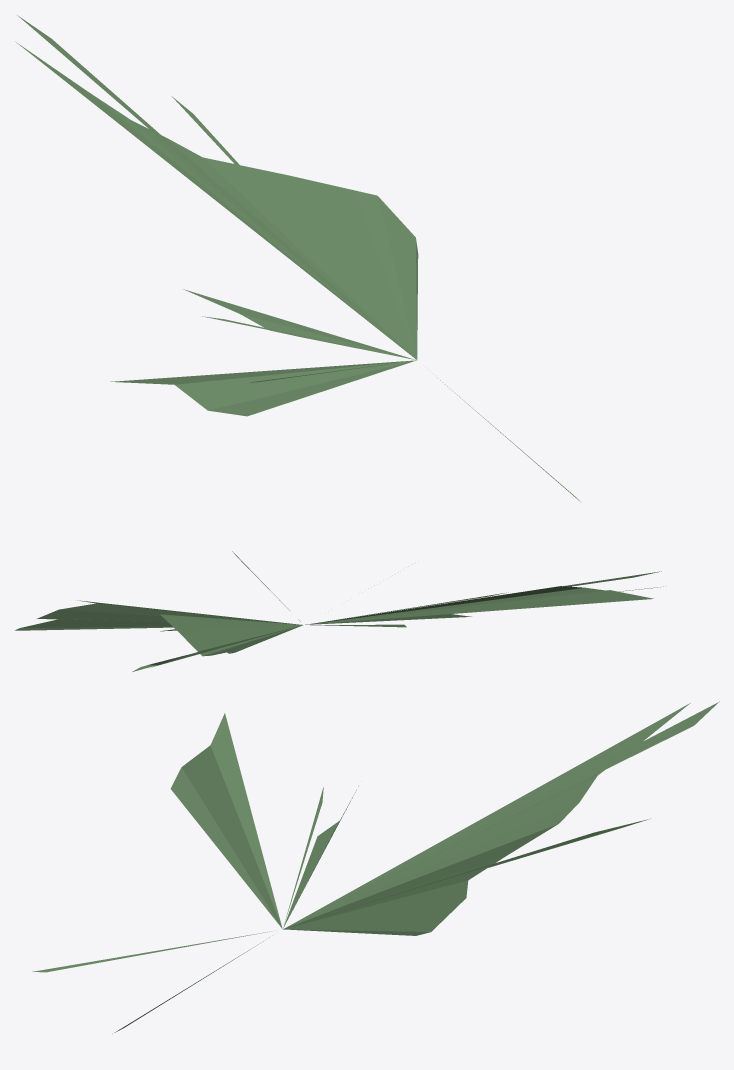
Rendered from c_1670_17824_forest.glb.
The picture shows the model from 3 angles, top to bottom: view 1: azimuth 30°, elevation 25°; view 2: azimuth 150°, elevation 25°; view 3: azimuth 270°, elevation 25°; orthographic projection. The views are drawn at different scales.
Visible parts, largest first — view 1: geometry_0; view 2: geometry_0; view 3: geometry_0.
Boxes of the visible parts, x1=… form: geometry_0: x1=15, y1=15, x2=581, y2=502; geometry_0: x1=15, y1=551, x2=663, y2=671; geometry_0: x1=32, y1=701, x2=719, y2=1032.
Bounding box in the file's own units: 437 × 162 × 505.
